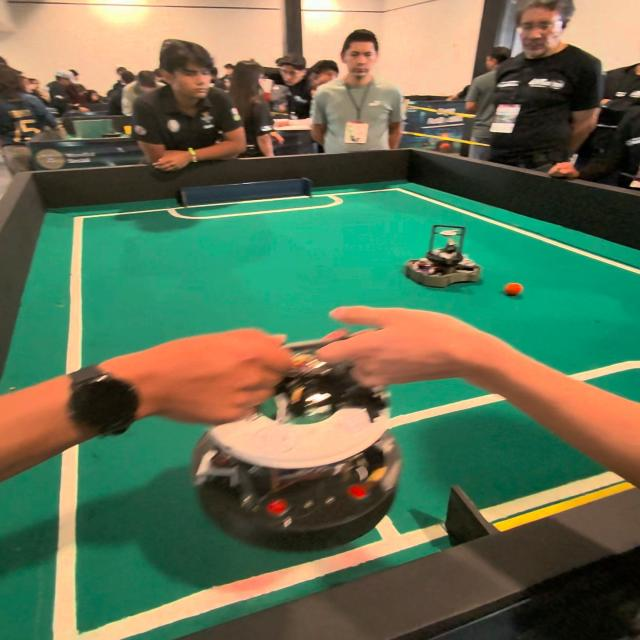Robot: (187, 329, 407, 548), (404, 222, 479, 287)
pelota: (503, 281, 522, 296)
